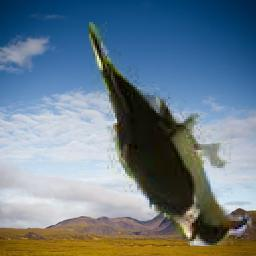Cuckoo: (90, 22, 253, 246)
